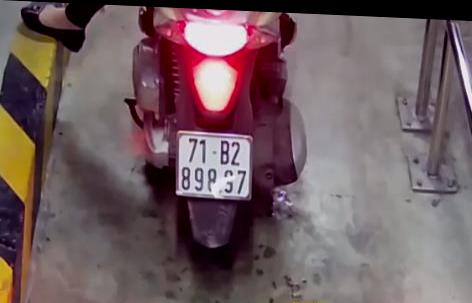License_Plate: (171, 128, 259, 209)
